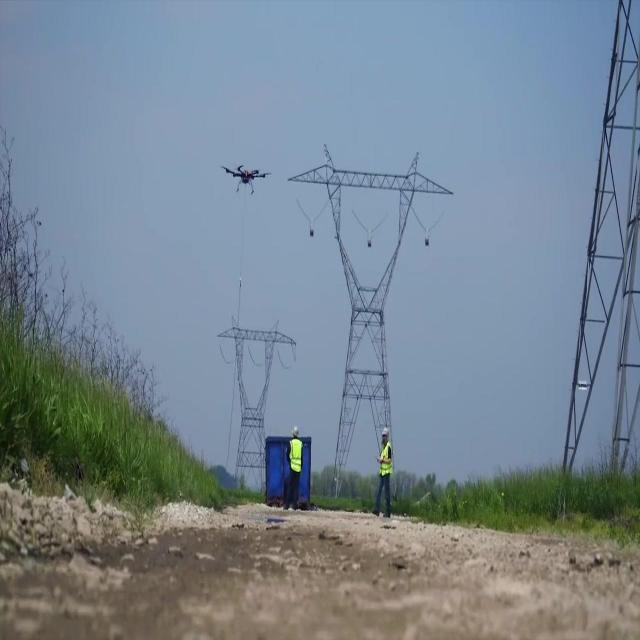UAV: (220, 164, 272, 196)
